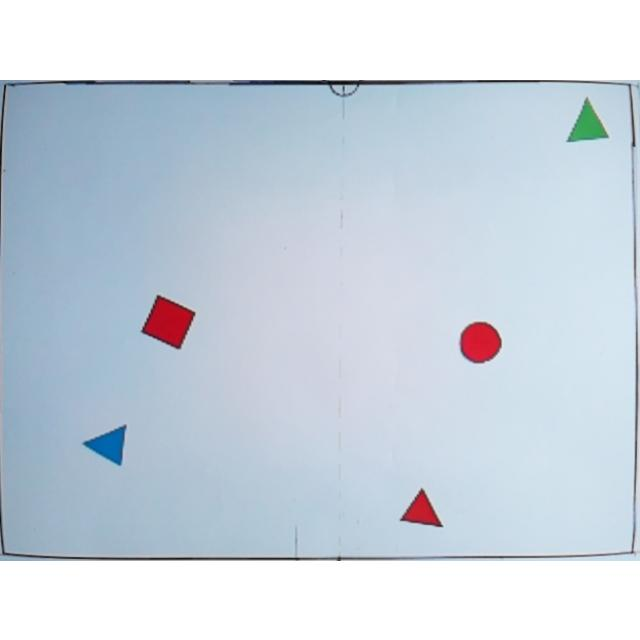blueTriangle: (82, 422, 132, 468)
greenTriangle: (566, 96, 612, 142)
redCircle: (458, 320, 504, 364)
redSquare: (140, 294, 197, 351)
redTriangle: (399, 487, 447, 528)
